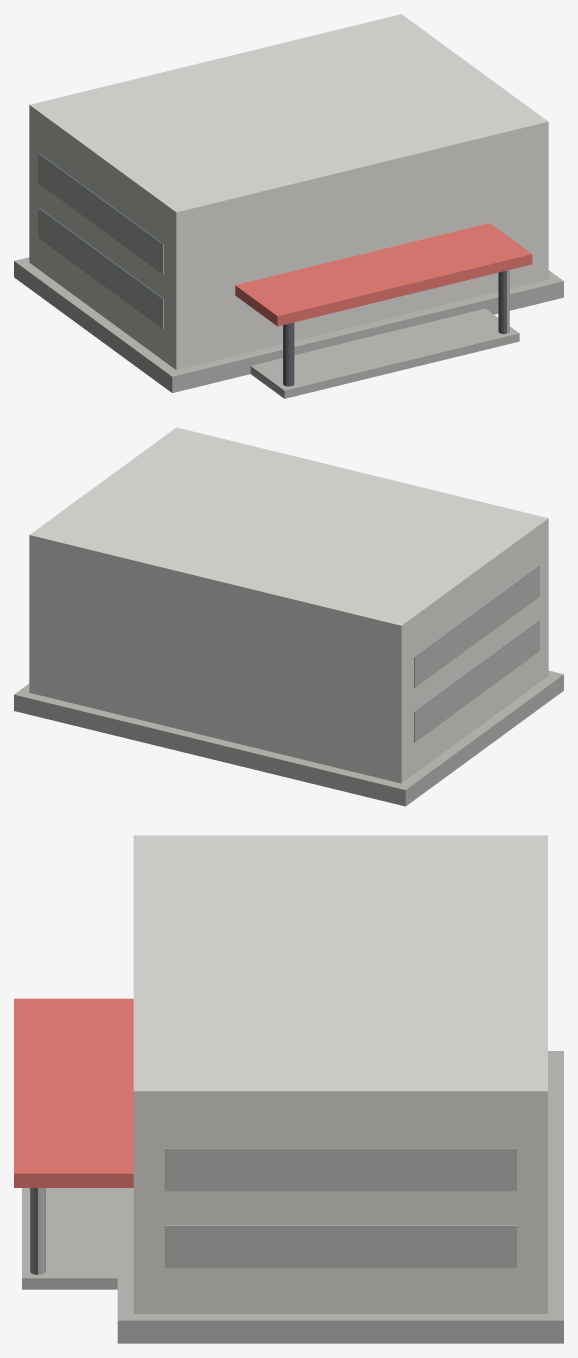
File: hospital_emergency_er_wing.glb
3 views of the same model, one above another, from view 1: azimuth 30°, elevation 25°; view 2: azimuth 150°, elevation 25°; view 3: azimuth 270°, elevation 25° (orthographic). The views are drawn at different scales.
Visible parts, largest first — view 1: hospital_emergency_er_wing; view 2: hospital_emergency_er_wing; view 3: hospital_emergency_er_wing.
Boxes of the visible parts, <box> form: hospital_emergency_er_wing: <box>14,14,563,398</box>; hospital_emergency_er_wing: <box>14,427,563,806</box>; hospital_emergency_er_wing: <box>14,835,563,1343</box>.
Bounding box in the file's own units: 20 × 8.5 × 17.25.
